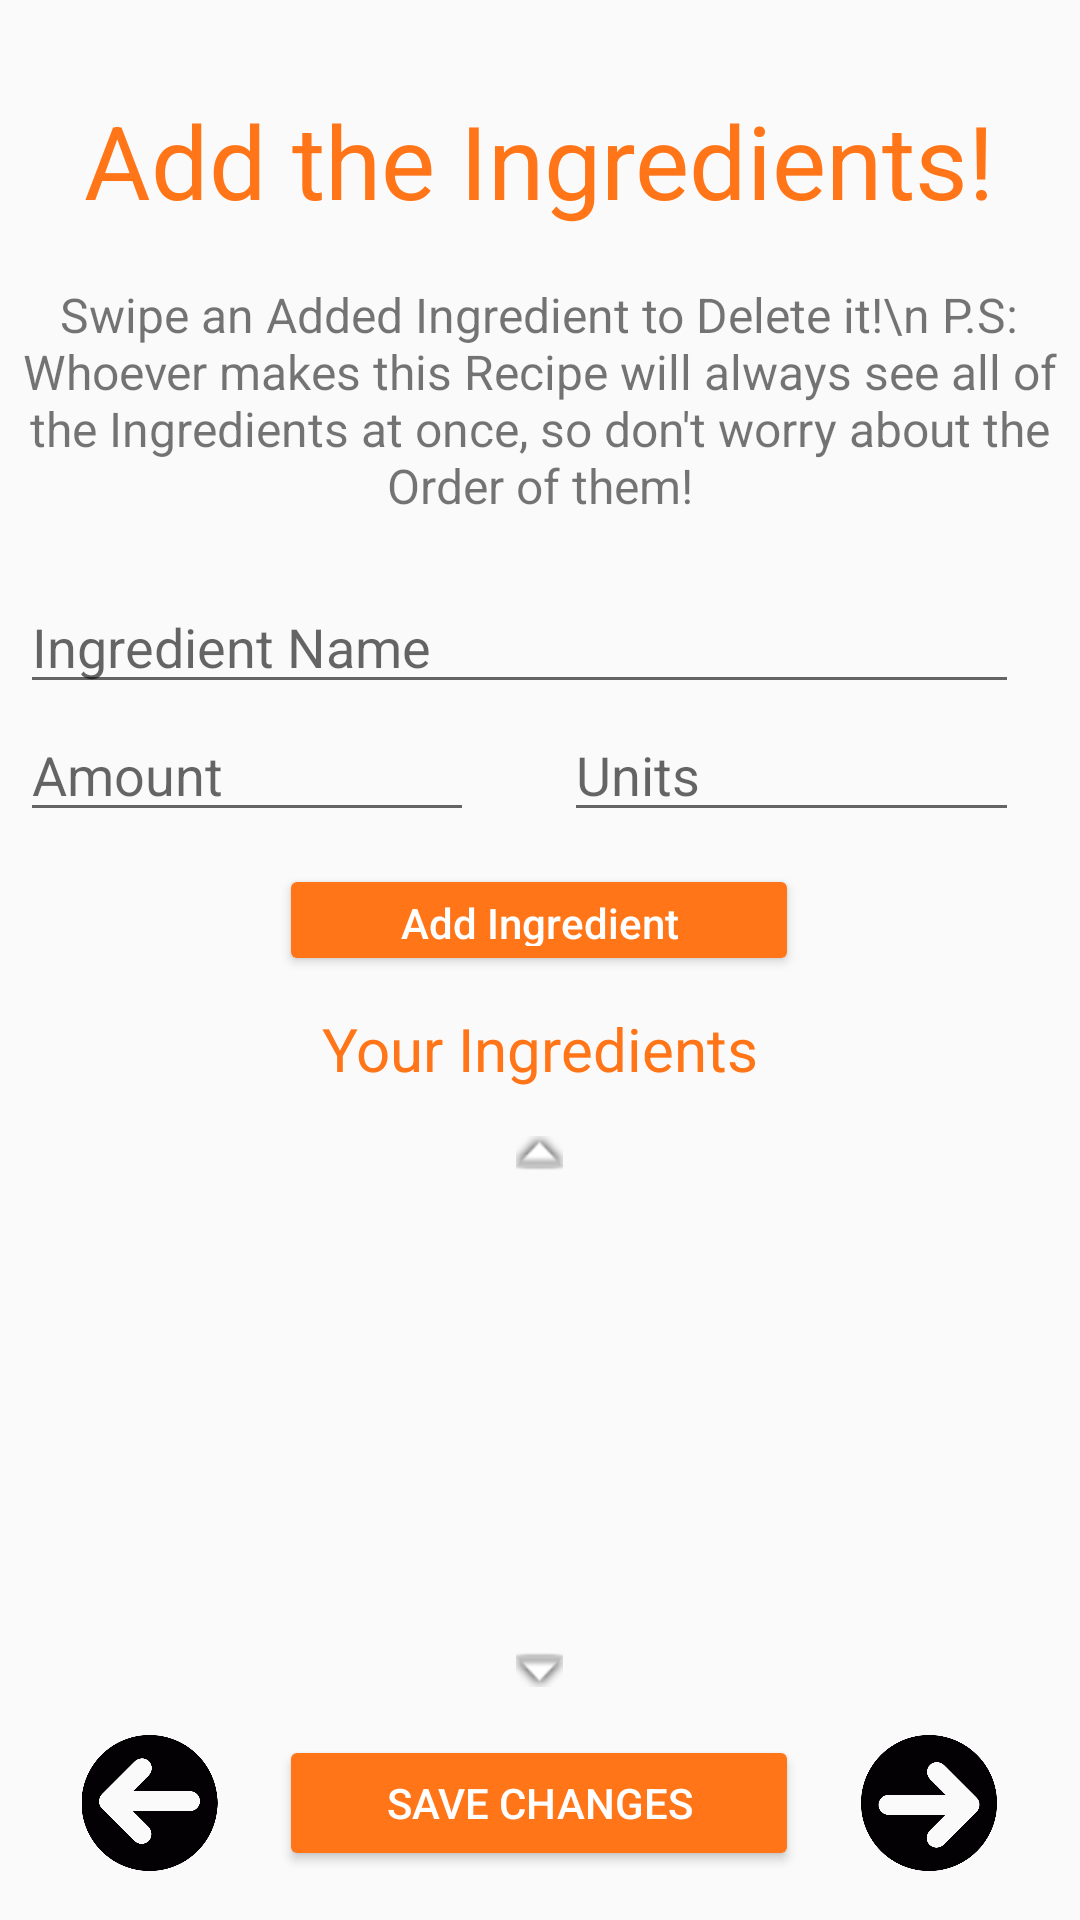

Where to tap for icons on this 1080px×1920px app screen, as (x=x, y=y):
arrow down float: (x=539, y=1670)
arrow up float: (x=539, y=1153)
left arrow: (x=150, y=1803)
right arrow: (x=929, y=1803)
